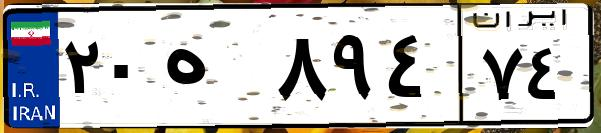0: (110, 28, 158, 98)
2: (57, 26, 110, 100)
4: (385, 28, 445, 110), (525, 38, 570, 115)
7: (475, 38, 525, 113)
8: (270, 28, 330, 110)
9: (330, 28, 385, 110)
ه: (158, 20, 270, 120)
